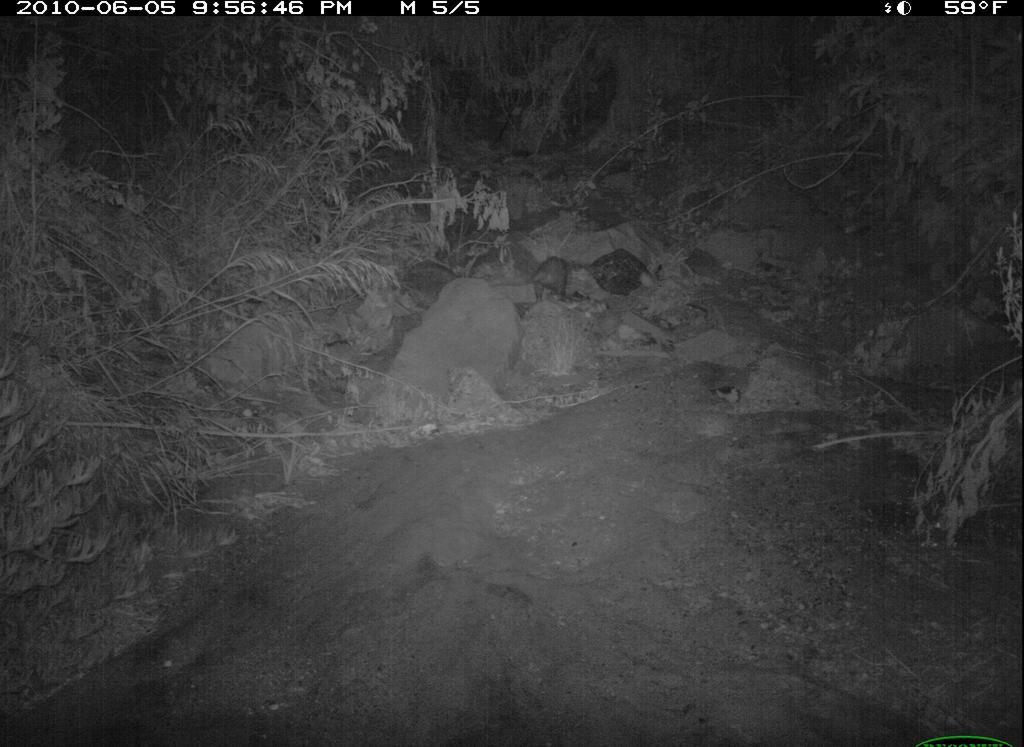opossum: (509, 257, 570, 303)
